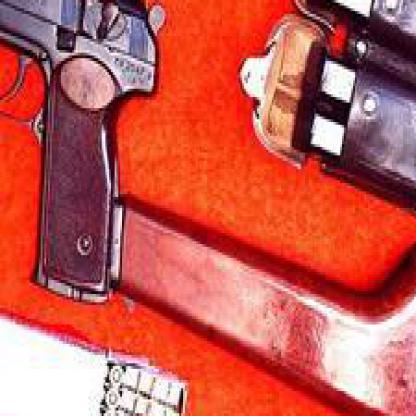gun: (0, 0, 157, 316)
